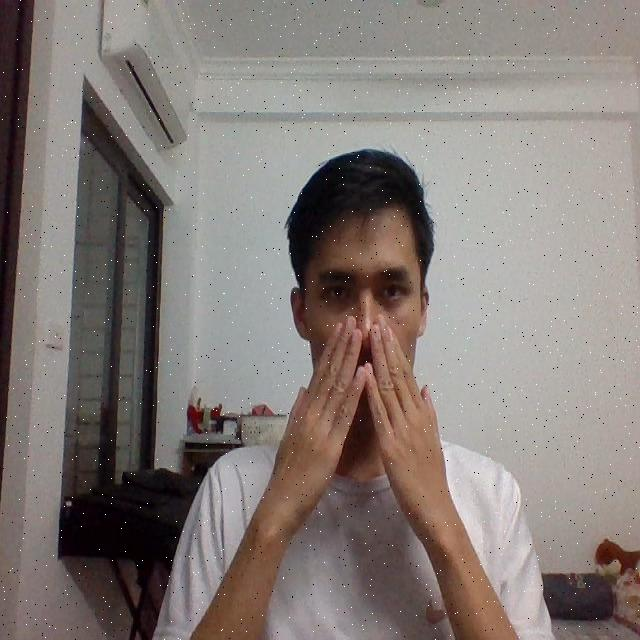thanks: (282, 309, 455, 515)
